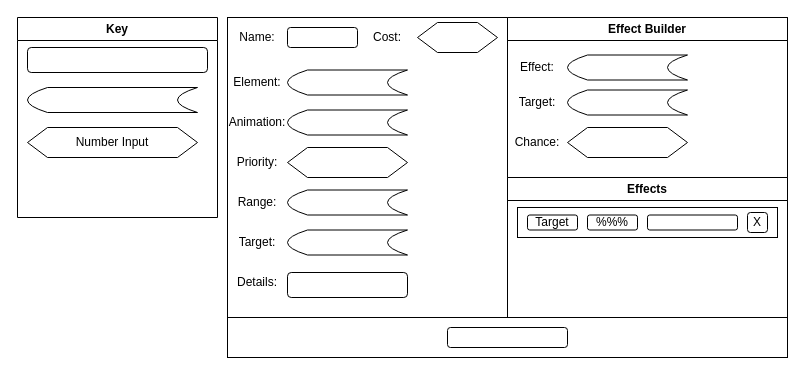
Some shapes in this 805 by 375 pixel diagram are drawn without their labels. The centre of each missing label's shape, as x and y in pixels:
Dropdown: the point at 112,99
Effect Name: the point at 692,222
Save: the point at 507,337
Text Input: the point at 117,59
